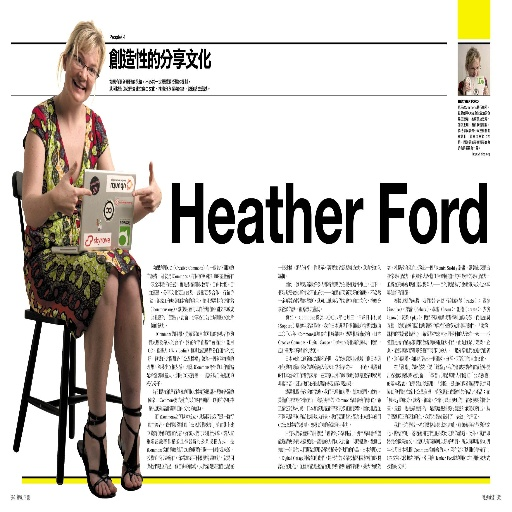hand: (50, 158, 91, 216), (119, 169, 152, 219), (462, 80, 471, 94), (482, 84, 489, 95)
